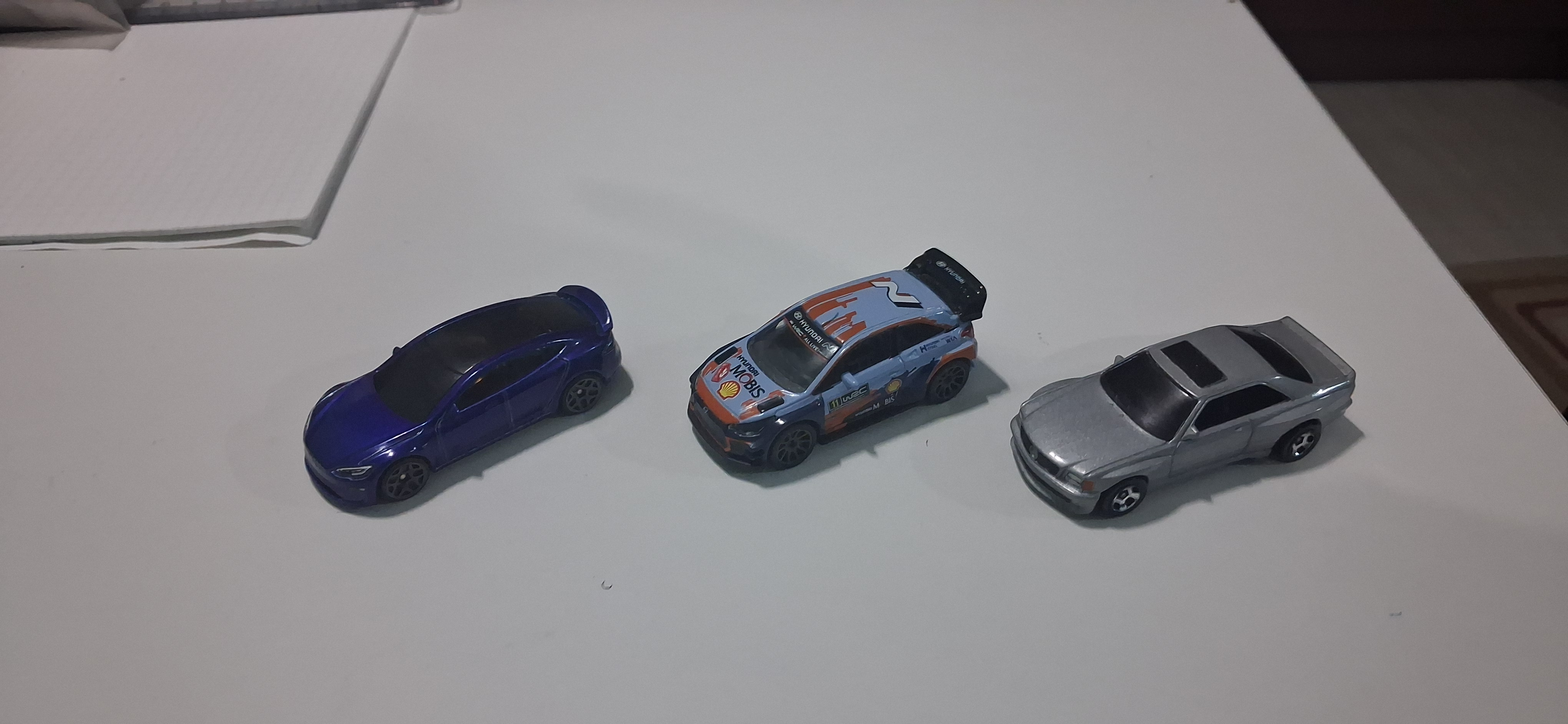Hyundai_I20_WRC: (673, 211, 1009, 507)
Mercedes_Benz_560_SEC_AMG: (982, 242, 1401, 552)
Tesla_Model_S_Plaid: (254, 253, 652, 549)
